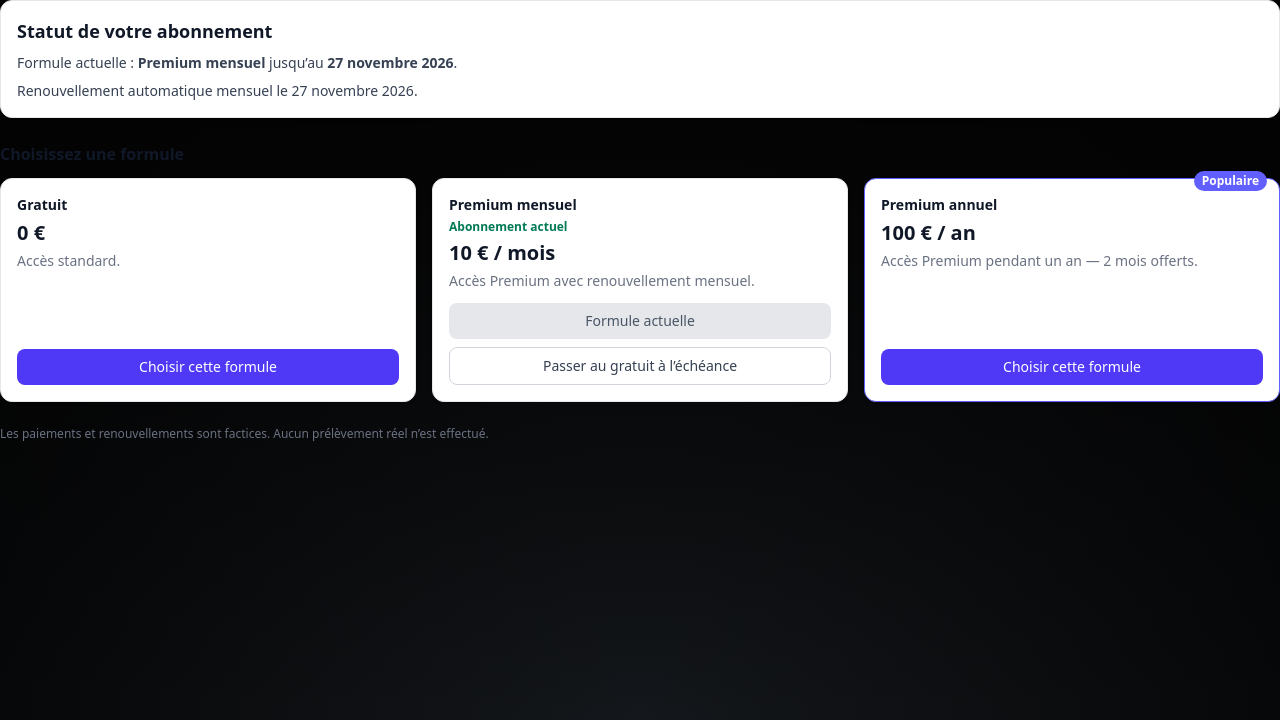
Scenario: confirme le désabonnement via Choisir cette formule : Gratuit et conserve la date
The image size is (1280, 720).
Click the button with aria-label "Choisir cette formule : Gratuit" at (208, 367), box [17, 349, 399, 385]
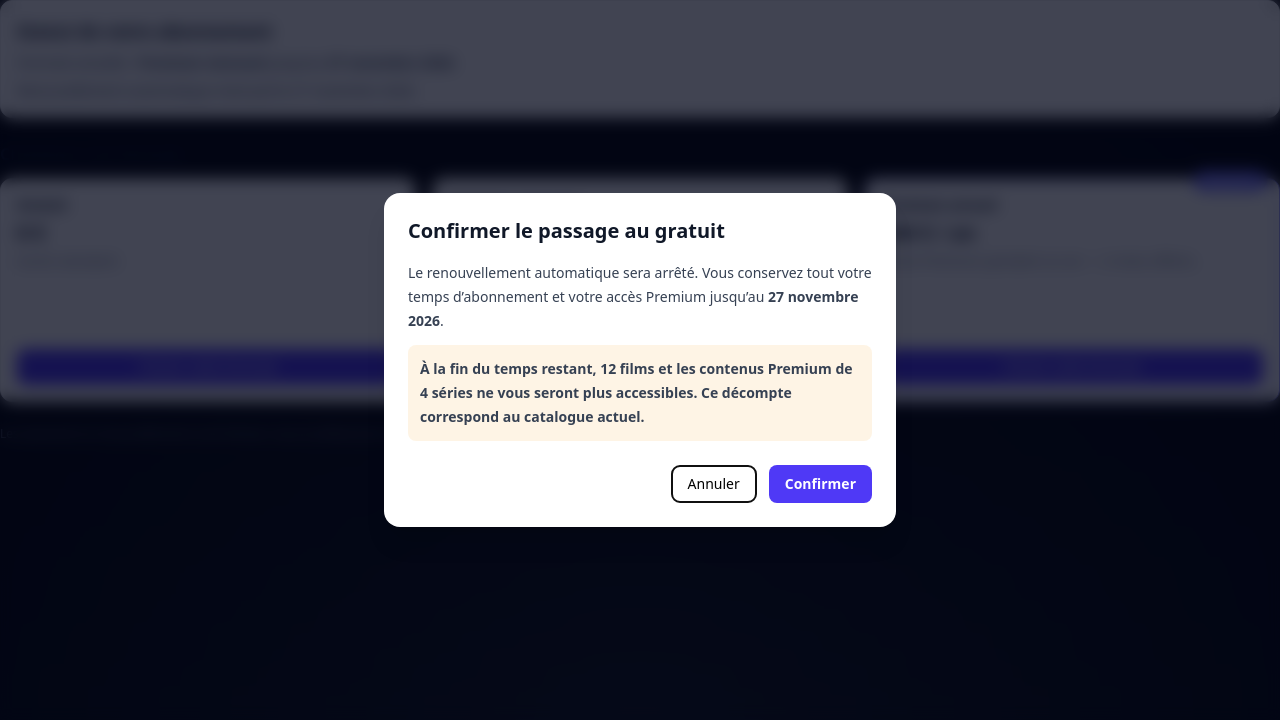
Expected: the button "Confirmer" is enabled
Expected: the text "12 films et les contenus Premium de 4 séries" is shown, [408, 345, 872, 441]
Expected: the text "Vous conservez tout votre temps" shows "27 novembre 2026", [408, 287, 858, 330]
Click the button "Confirmer" at (820, 484), box [769, 465, 872, 503]
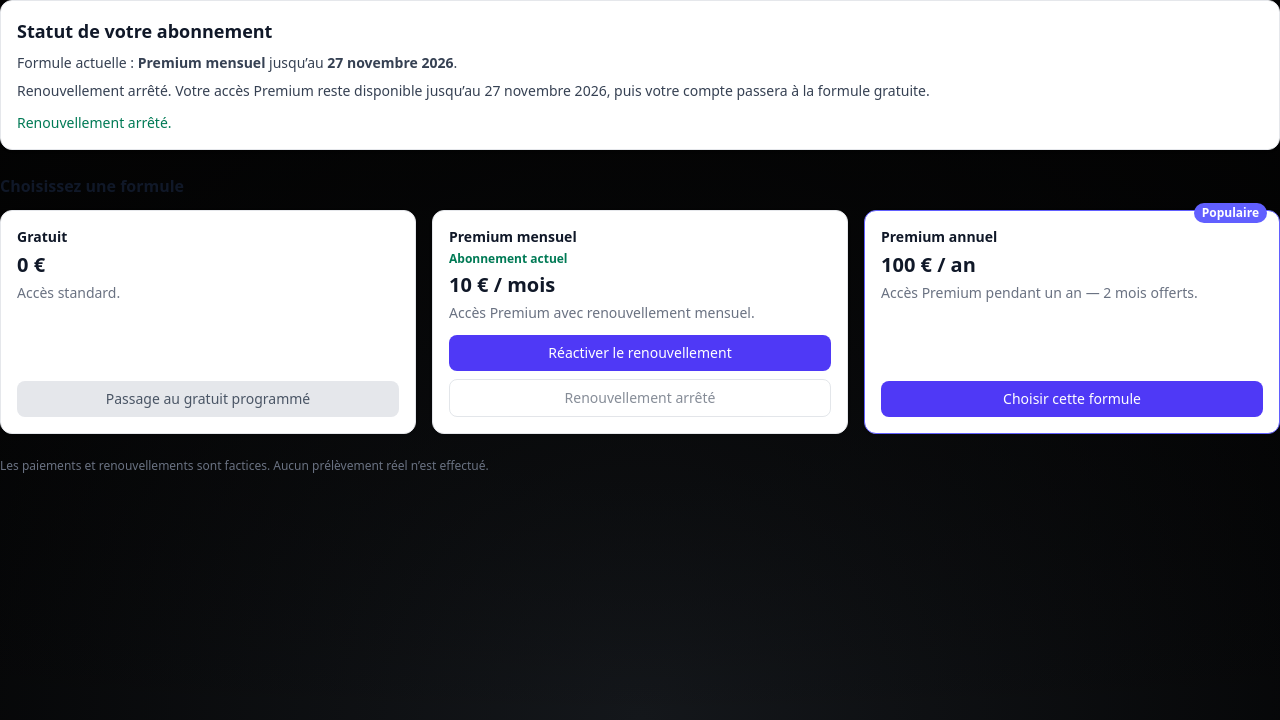
Expected: the text "puis votre compte passera à la formule gratuite" shows "27 novembre 2026", [484, 81, 607, 100]
Expected: the button with aria-label "Passage au gratuit programmé : Gratuit" is disabled, [17, 381, 399, 417]
